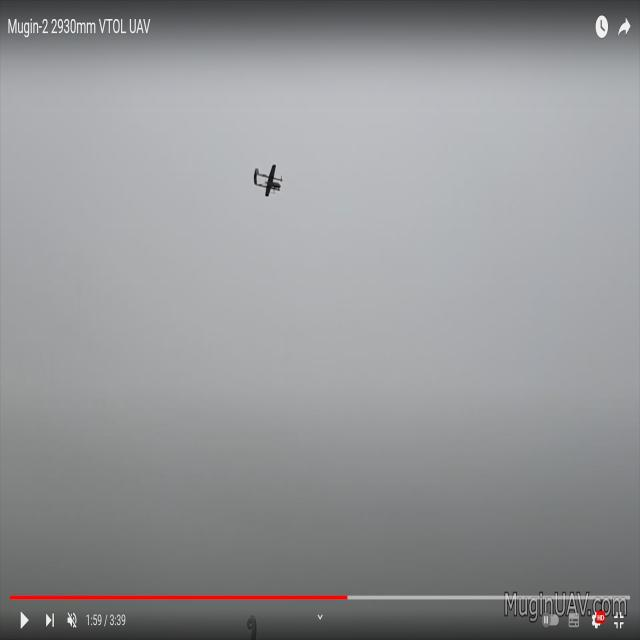iha: (250, 164, 275, 196)
